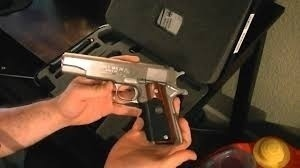pistol: (56, 50, 190, 121)
